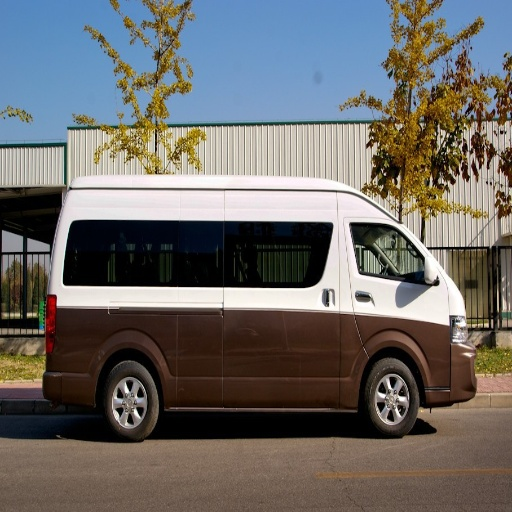back_right_door: (350, 223, 414, 306)
trunk: (51, 290, 213, 402), (340, 313, 388, 394)
